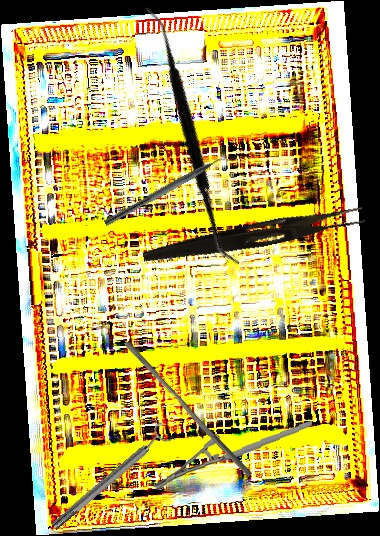Chopper: (103, 149, 236, 235)
Dressing Forceps: (141, 198, 366, 274)
Fixation Ring: (45, 420, 176, 536)
Needle Holder: (150, 420, 316, 492)
Pusher: (119, 340, 258, 478)
Spatula Surgical: (57, 4, 328, 268)
